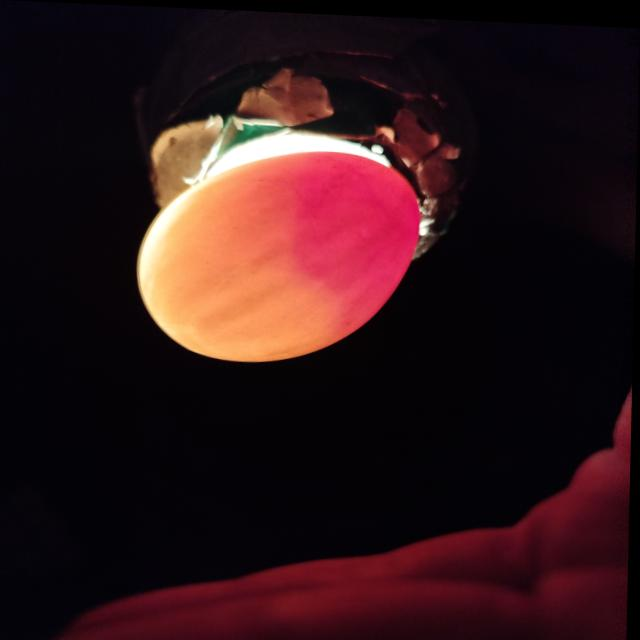Gema Quebrada: (263, 148, 422, 328)
